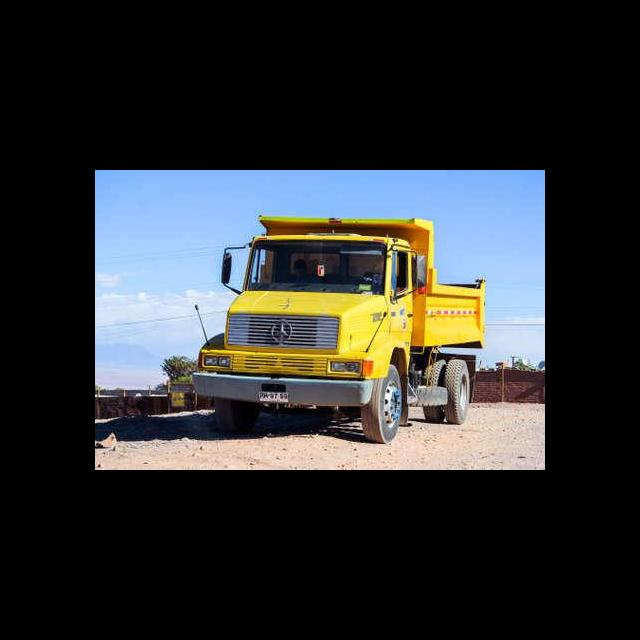NO-Hardhat: (294, 258, 306, 268)
NO-Safety Vest: (291, 273, 314, 282)
Person: (286, 259, 318, 282)
dump truck: (191, 215, 487, 445)
